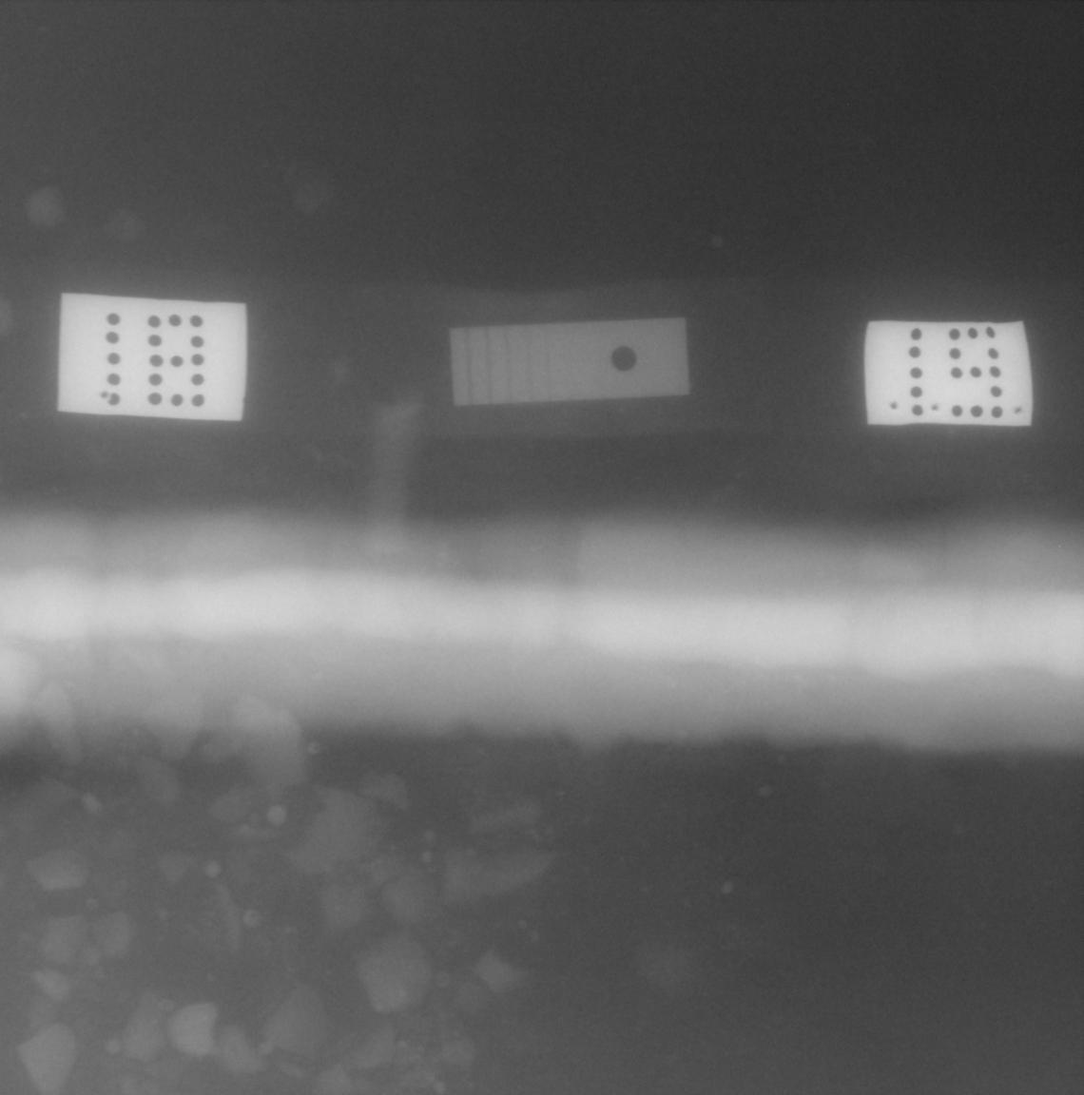Reference Standard 1: (449, 317, 690, 405)
